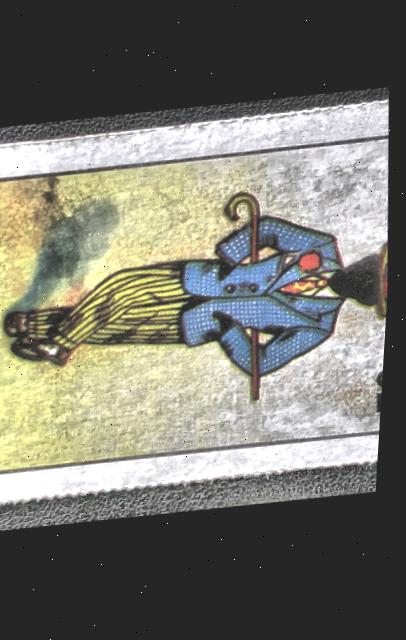El Negrito: (0, 118, 400, 487)
